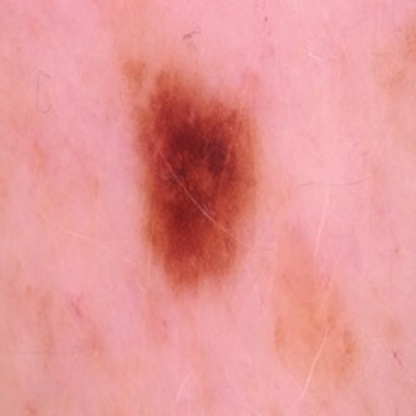benign: (142, 85, 251, 273)
